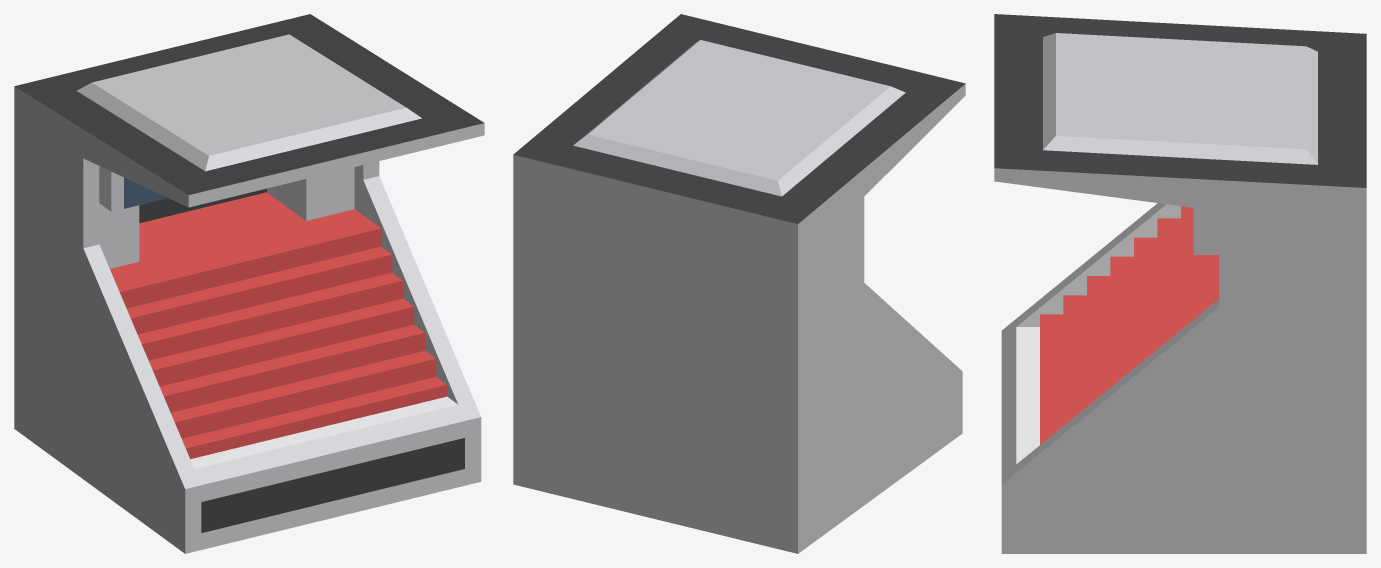
Rendered from grandStandCovered.glb.
3 views of the same model, side by side, from view 1: azimuth 30°, elevation 25°; view 2: azimuth 150°, elevation 25°; view 3: azimuth 270°, elevation 25° (orthographic). The views are drawn at different scales.
Visible parts, largest first — view 1: grandStandCovered(Clone); view 2: grandStandCovered(Clone); view 3: grandStandCovered(Clone).
Part boxes in pixels (x1,y1,x2,y2): grandStandCovered(Clone): (14,14,484,553); grandStandCovered(Clone): (513,14,965,553); grandStandCovered(Clone): (994,14,1366,553).
Size of the model in its own units: 1 by 1.19 by 1.02.
